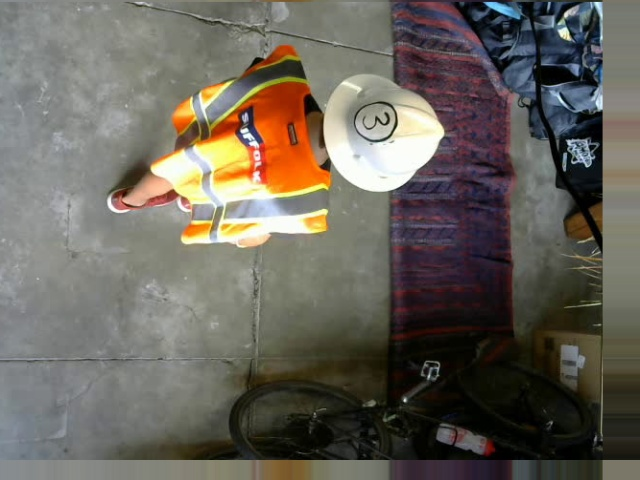three: (354, 102, 398, 143)
